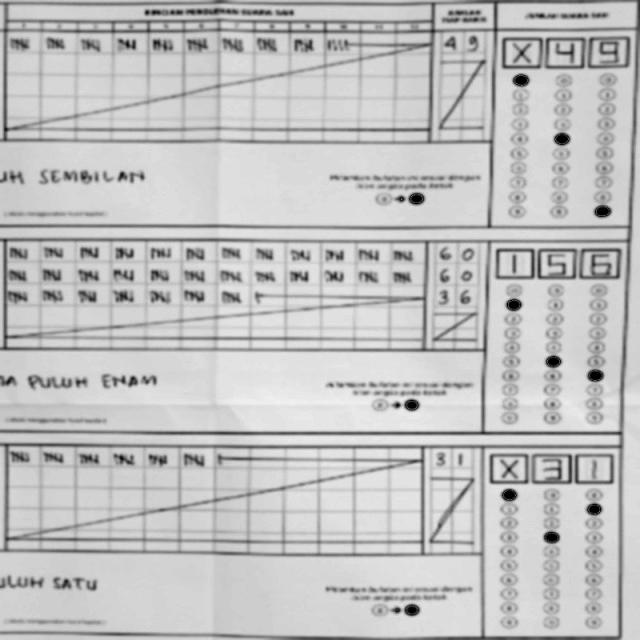Suara: (484, 449, 617, 486), (503, 31, 627, 69), (493, 251, 621, 282)
